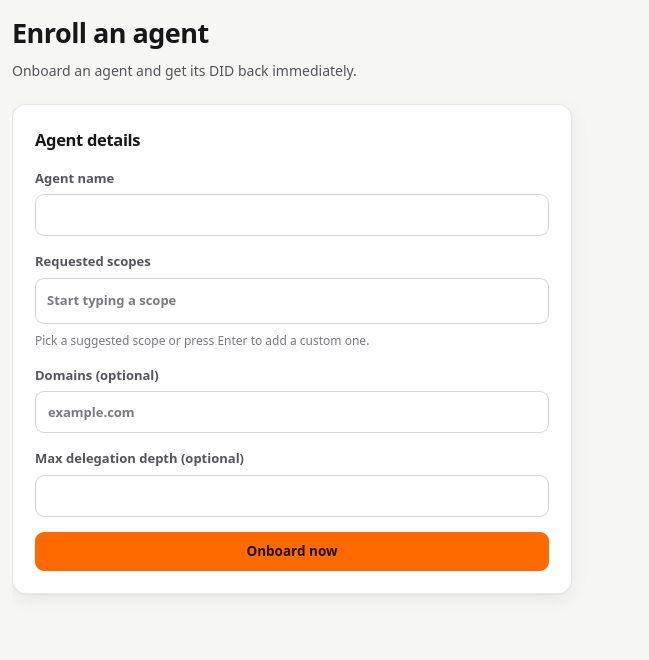
Test case: EnrollPage › onboards an agent in one click and shows the agent DID immediately
Type "billing-agent" into the field labelled "Agent name" at (292,215), box left=35, top=194, right=549, bottom=236
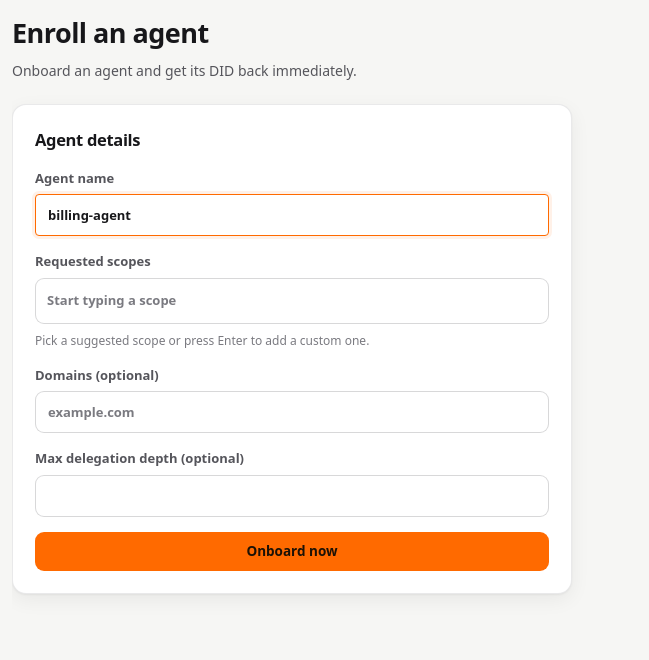
Type "read:orders" into the field labelled "Requested scopes" at (292,300), box left=45, top=286, right=539, bottom=314
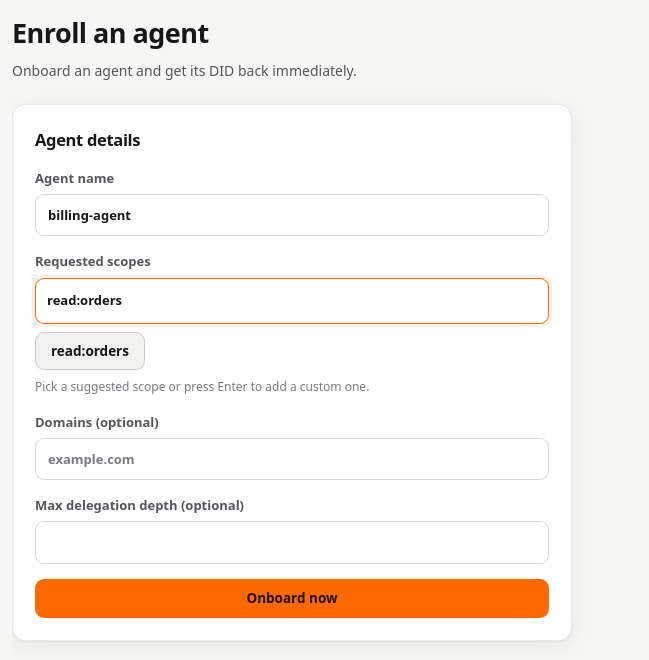
Click the button "Onboard now" at (292,598), box left=35, top=579, right=549, bottom=618
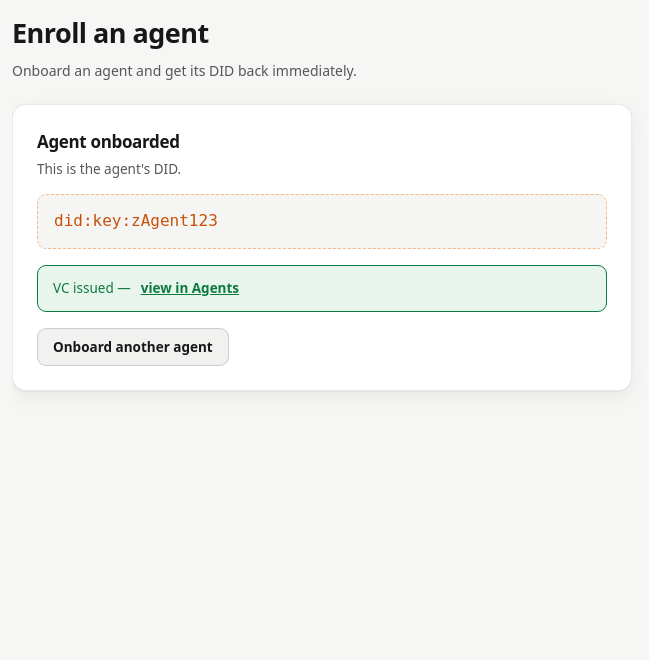
Expected: the text "did:key:zAgent123" is shown, left=37, top=194, right=607, bottom=249
